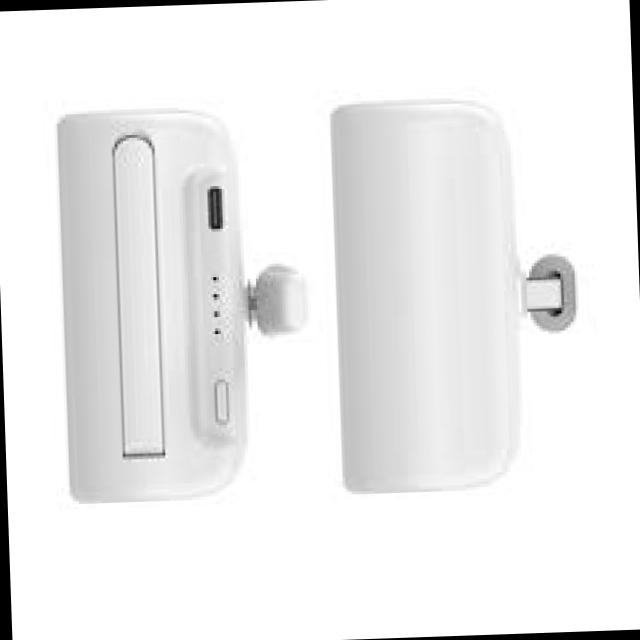portable-charger: (314, 83, 592, 504), (47, 102, 319, 508)
